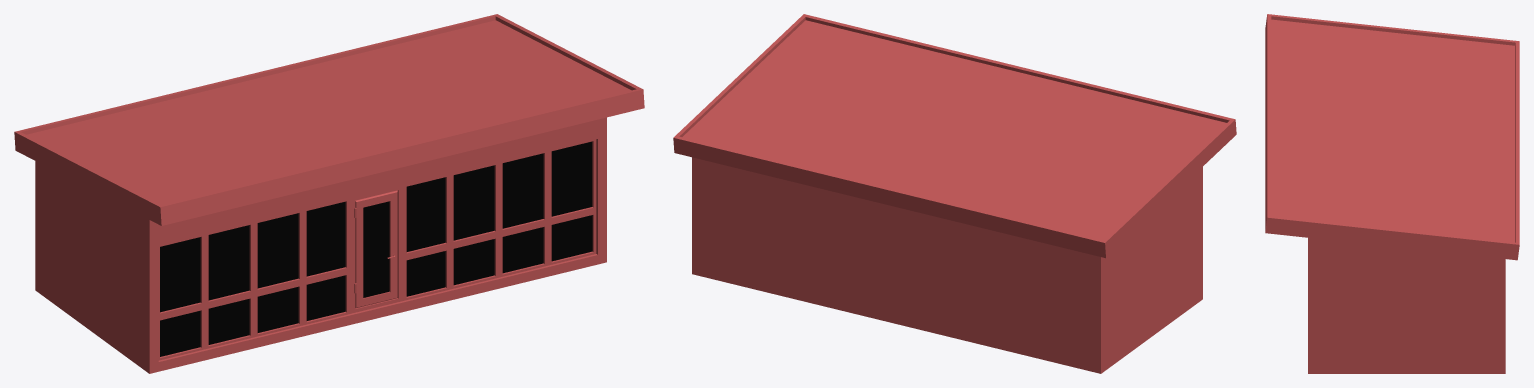
File: SM_shop_7.fbx
The picture shows the model from 3 angles, left to right: view 1: azimuth 30°, elevation 25°; view 2: azimuth 150°, elevation 25°; view 3: azimuth 270°, elevation 25°; orthographic projection. The views are drawn at different scales.
Parts seen in each view (by area): view 1: Cube_11, Cylinder_7; view 2: Cube_11; view 3: Cube_11.
Part boxes in pixels (left/top/right/bottom): Cube_11: left=14, top=14, right=644, bottom=373; Cylinder_7: left=354, top=190, right=397, bottom=308; Cube_11: left=673, top=14, right=1236, bottom=373; Cube_11: left=1265, top=14, right=1519, bottom=373.
Size of the model in its own units: 1056 by 391 by 557.
